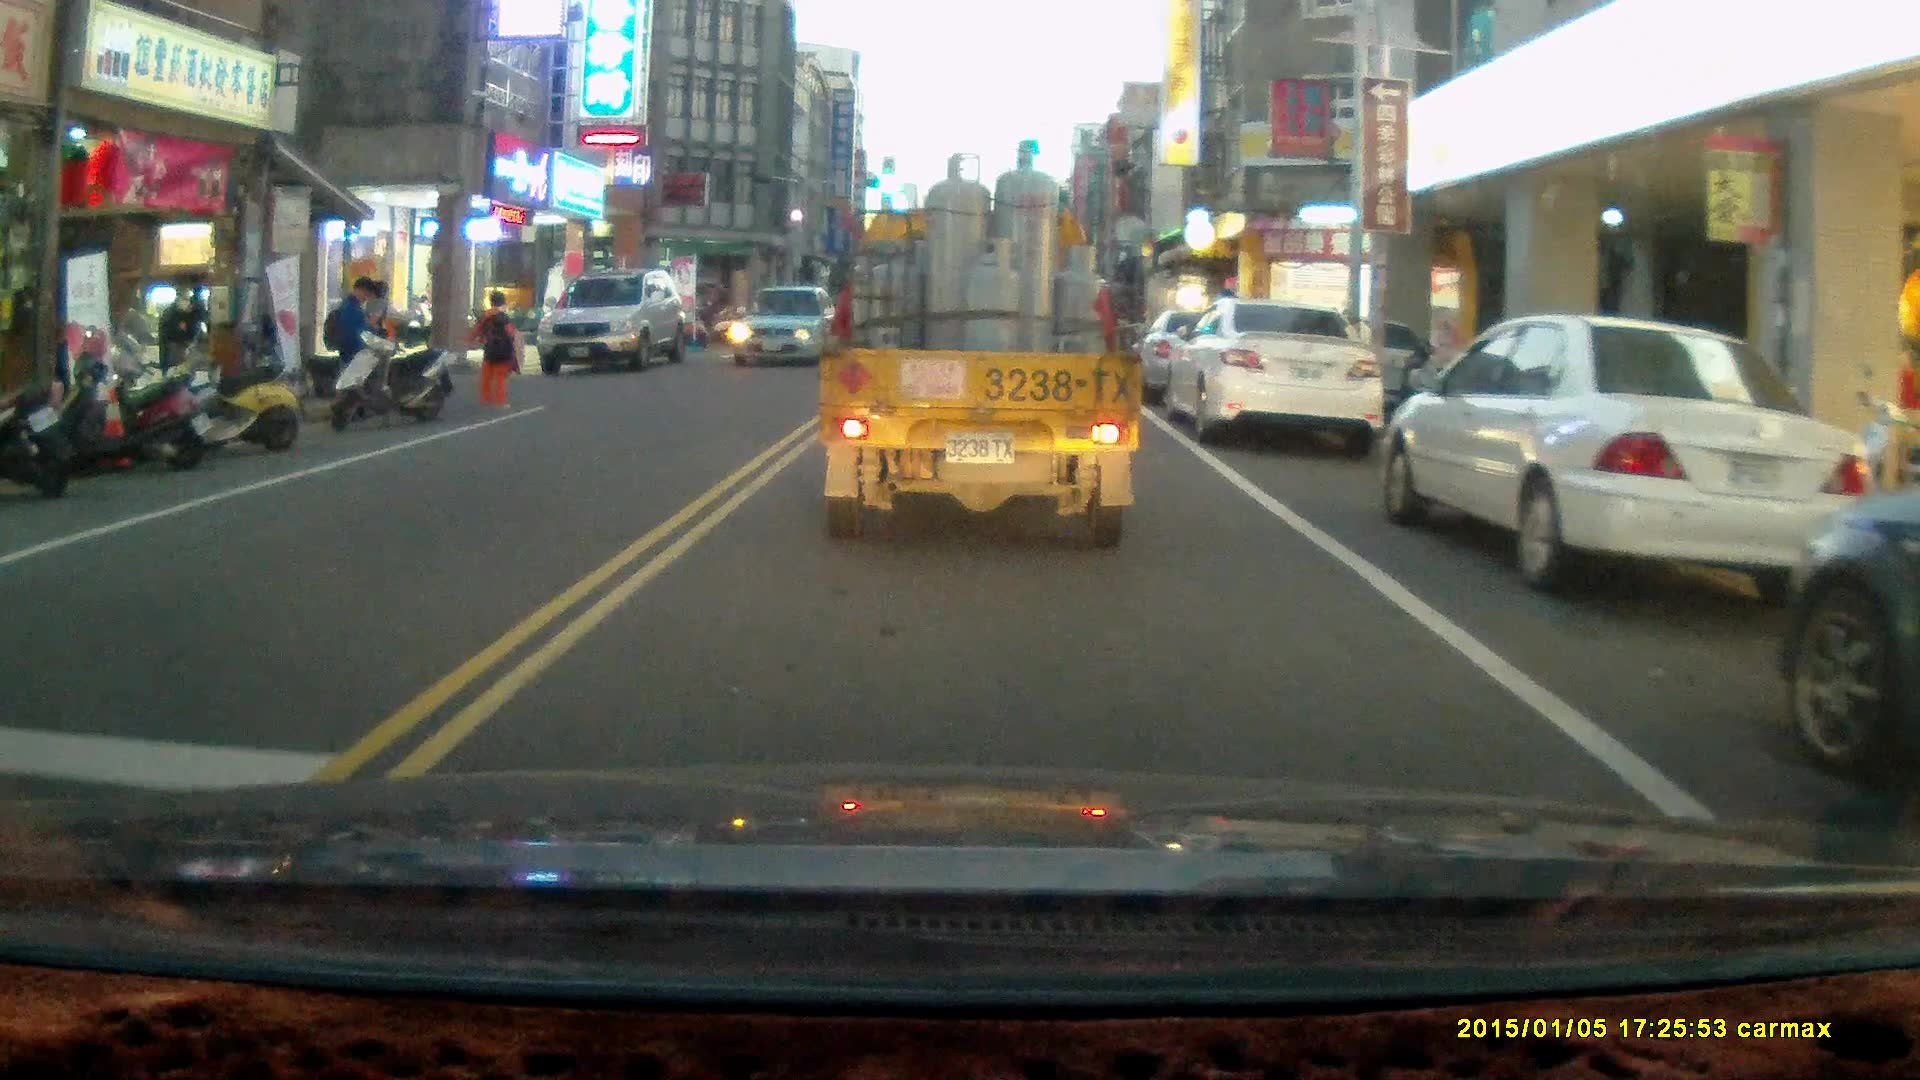pedestrian: (312, 276, 373, 422), (156, 283, 204, 430), (466, 290, 520, 408)
vehicle: (1378, 313, 1887, 601), (816, 148, 1149, 550), (1782, 482, 1920, 796), (1162, 297, 1384, 445), (538, 270, 690, 375), (728, 285, 842, 370)
